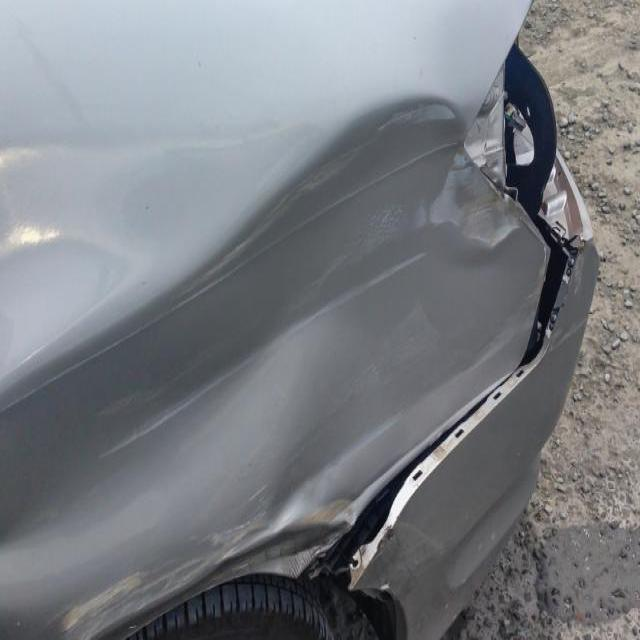Dent: (3, 111, 286, 191), (281, 124, 456, 247), (9, 20, 104, 139), (300, 246, 427, 330), (58, 569, 149, 629), (384, 516, 447, 561), (383, 103, 442, 125), (196, 59, 202, 68), (128, 623, 136, 628)
